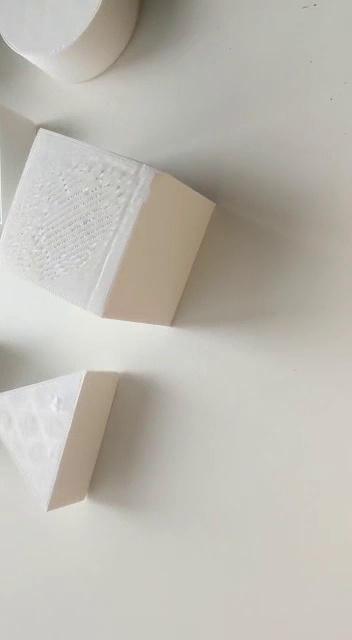Clyinder_short: (1, 1, 152, 89)
Cube: (1, 126, 219, 331)
Triangle_short: (1, 364, 120, 513)
